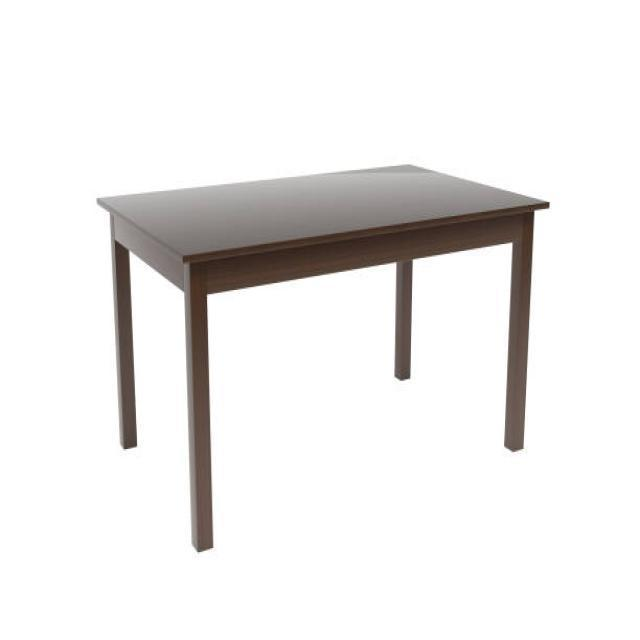table: (95, 160, 550, 552)
